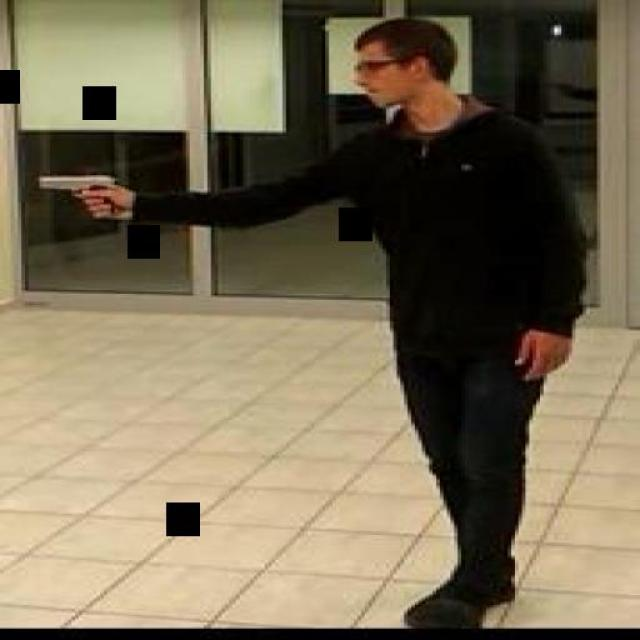gun: (33, 171, 125, 220)
